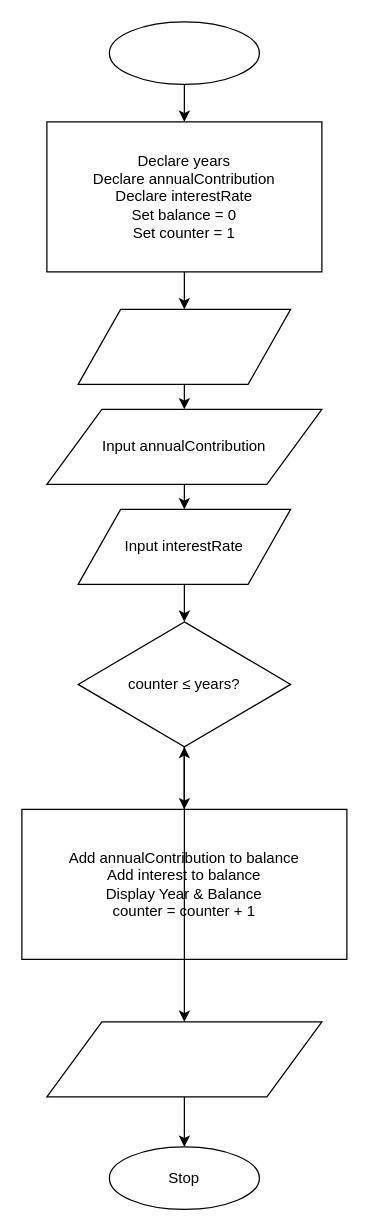
This 369x1231 diagram has some shape labels left out. Each missing label, with the centre of its shape:
"Display Final Retirement Balance" belongs at point (184, 1059).
"Input years" belongs at point (184, 346).
"Start" belongs at point (183, 52).
